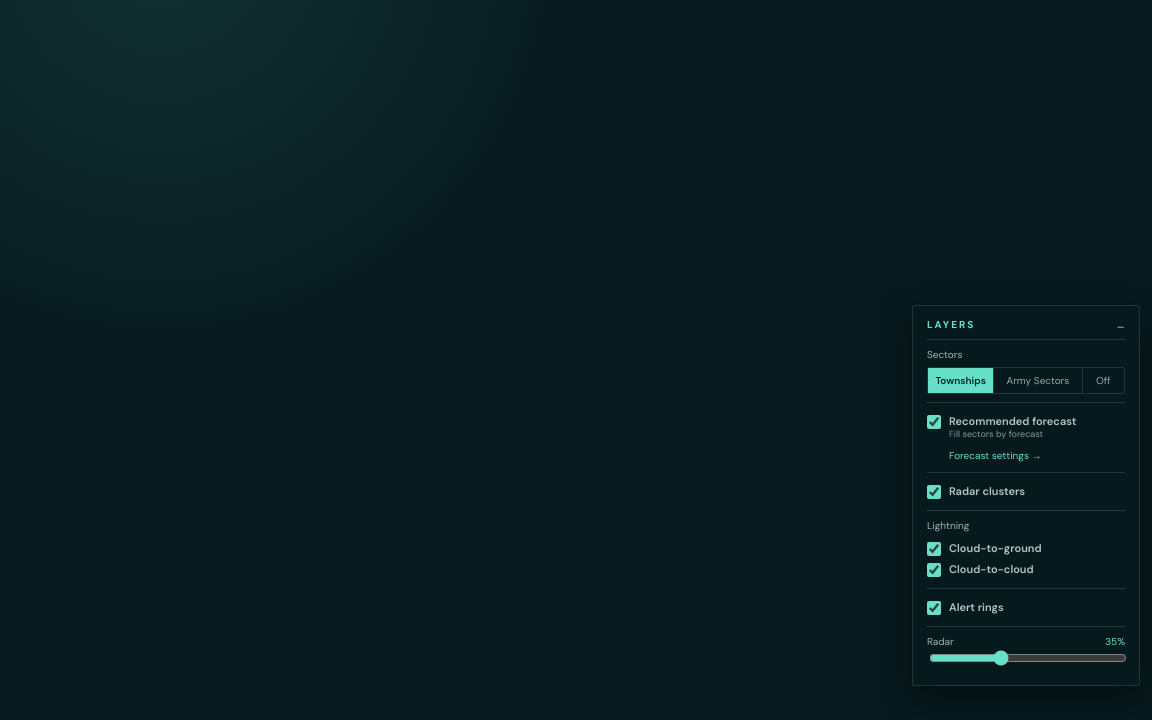
it: layers panel › disables the forecast while sectors are off and restores it after
Check: the checkbox named "Recommended forecast" is checked, box [927, 415, 941, 429]
Click the radio button named "sectors" at (1103, 380), box [1082, 368, 1124, 393]
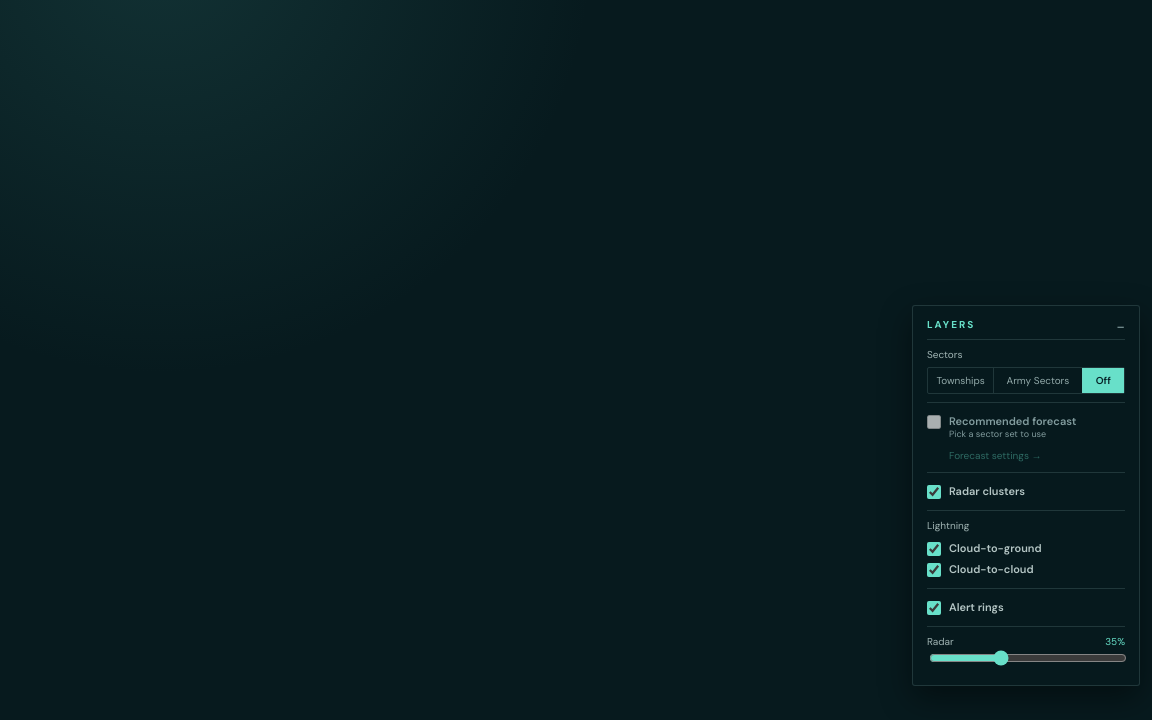
Check: the checkbox named "Recommended forecast" is not checked, box [927, 415, 941, 429]
Check: the checkbox named "Recommended forecast" is disabled, box [927, 415, 941, 429]
Check: the text "Pick a sector set to use" is shown, box [949, 428, 1046, 440]
Click the radio button named "sectors" at (1037, 380), box [993, 368, 1082, 393]
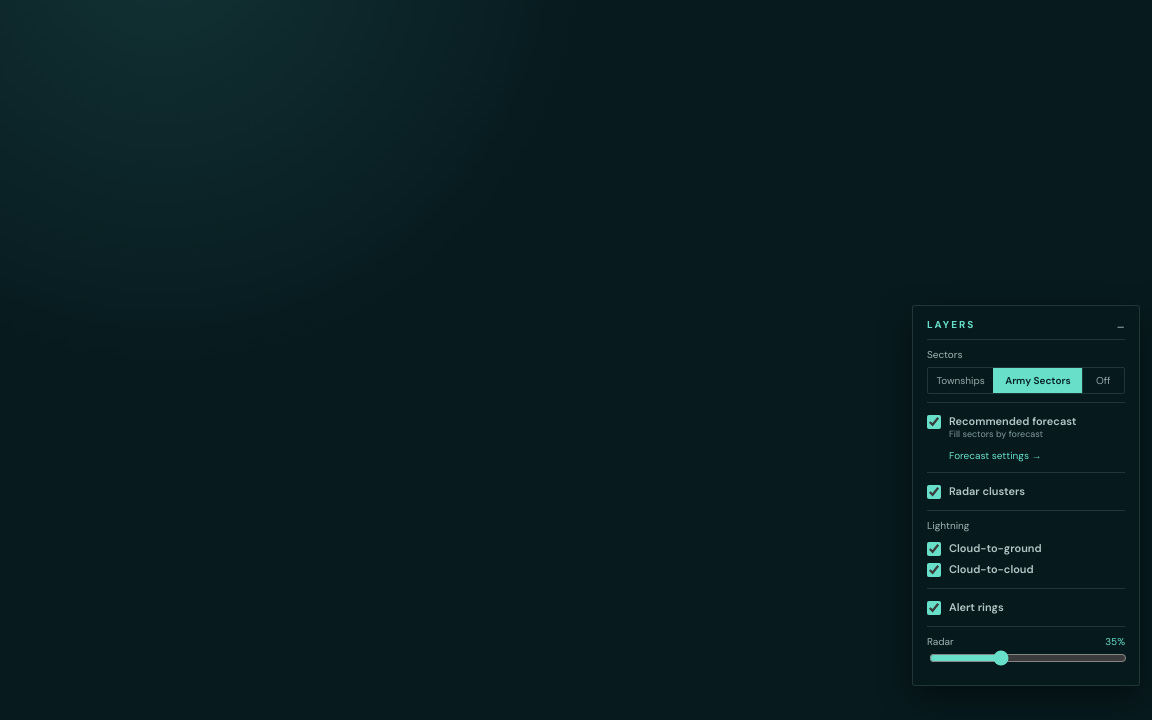
Check: the checkbox named "Recommended forecast" is checked, box [927, 415, 941, 429]
